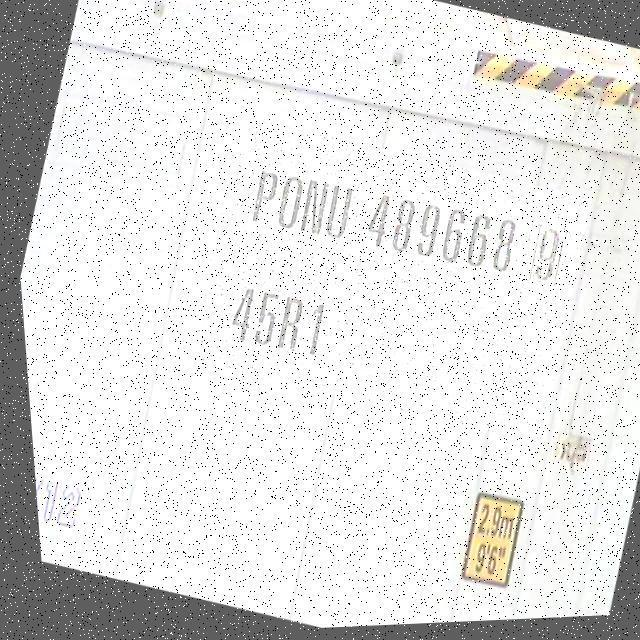container_number_h: (169, 106, 601, 459)
